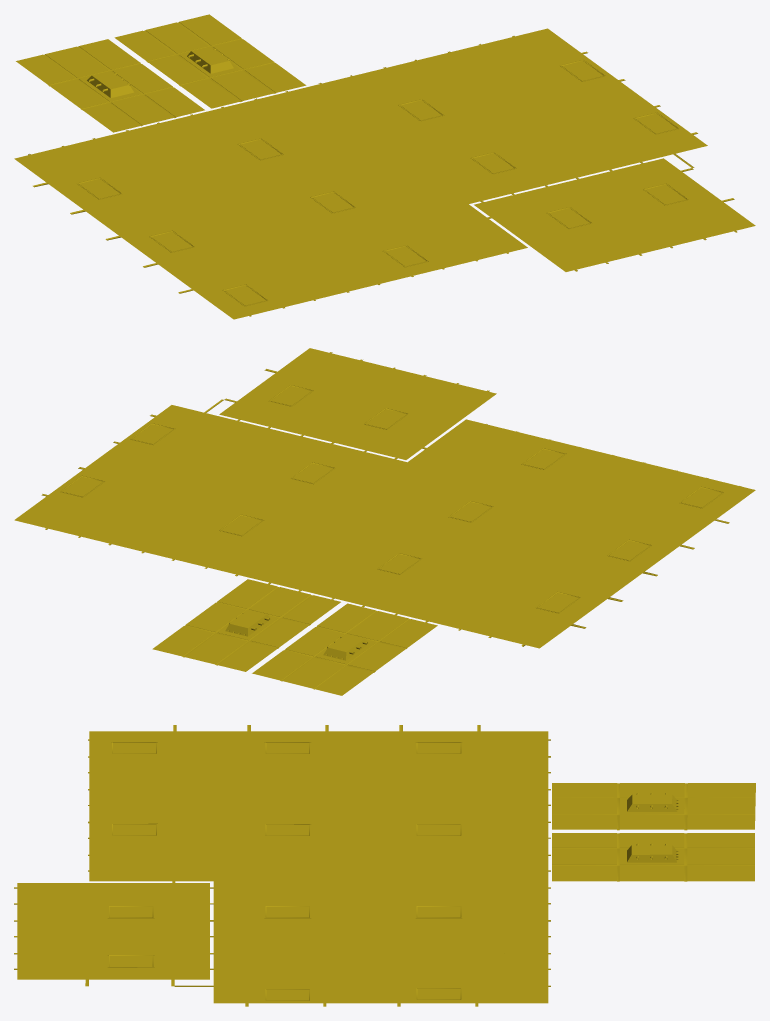
The model's file is Ceiling.fbx.
The picture shows the model from 3 angles, top to bottom: view 1: azimuth 30°, elevation 25°; view 2: azimuth 150°, elevation 25°; view 3: azimuth 270°, elevation 25°; orthographic projection. The views are drawn at different scales.
Parts seen in each view (by area): view 1: Ceiling_Atlas_04, Light_Mesh; view 2: Ceiling_Atlas_04, Light_Mesh; view 3: Ceiling_Atlas_04, Light_Mesh.
Boxes of the visible parts, x1=… form: Ceiling_Atlas_04: x1=14, y1=14, x2=755, y2=319; Light_Mesh: x1=78, y1=49, x2=687, y2=305; Ceiling_Atlas_04: x1=14, y1=348, x2=755, y2=695; Light_Mesh: x1=61, y1=385, x2=722, y2=654; Ceiling_Atlas_04: x1=14, y1=725, x2=755, y2=1006; Light_Mesh: x1=109, y1=742, x2=667, y2=1000.
Size of the model in its own units: 1803 by 24.01 by 2007.
